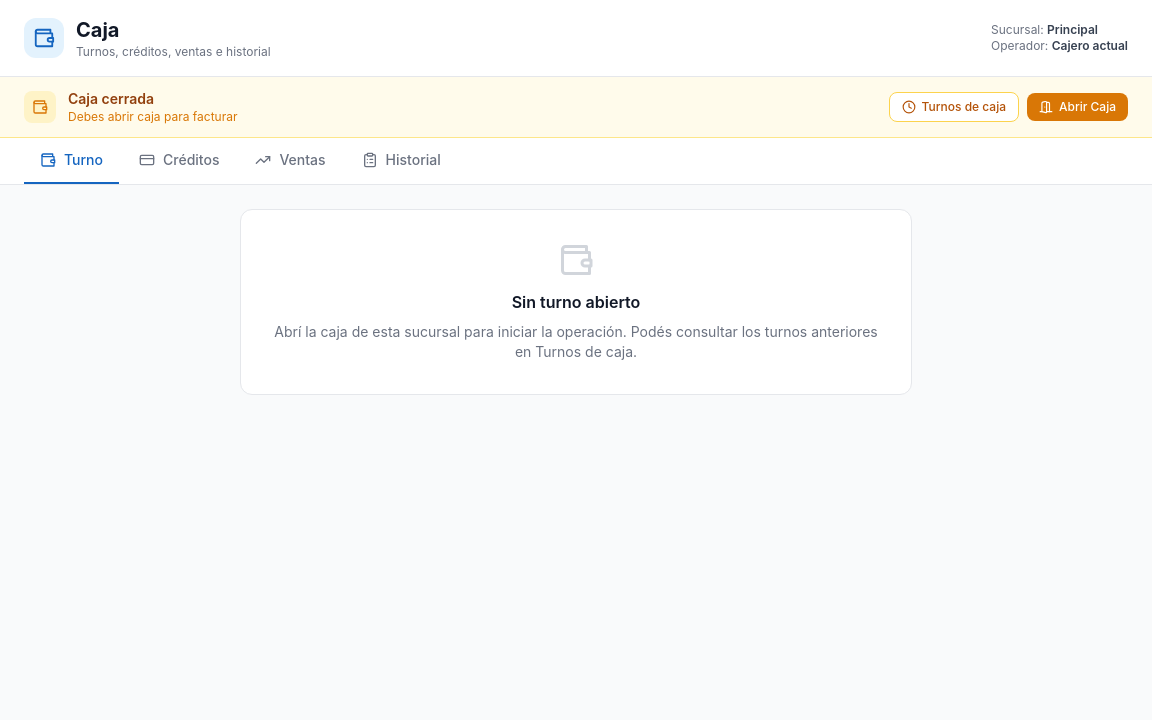
Test: HU1: pantalla propia de Caja › abre historial de turnos sin consultas de Restaurante
What coordinates should you click on to do the following:
click the button "Turnos de caja"
I would click on:
 (954, 107)
Its box is [889,92,1019,122].
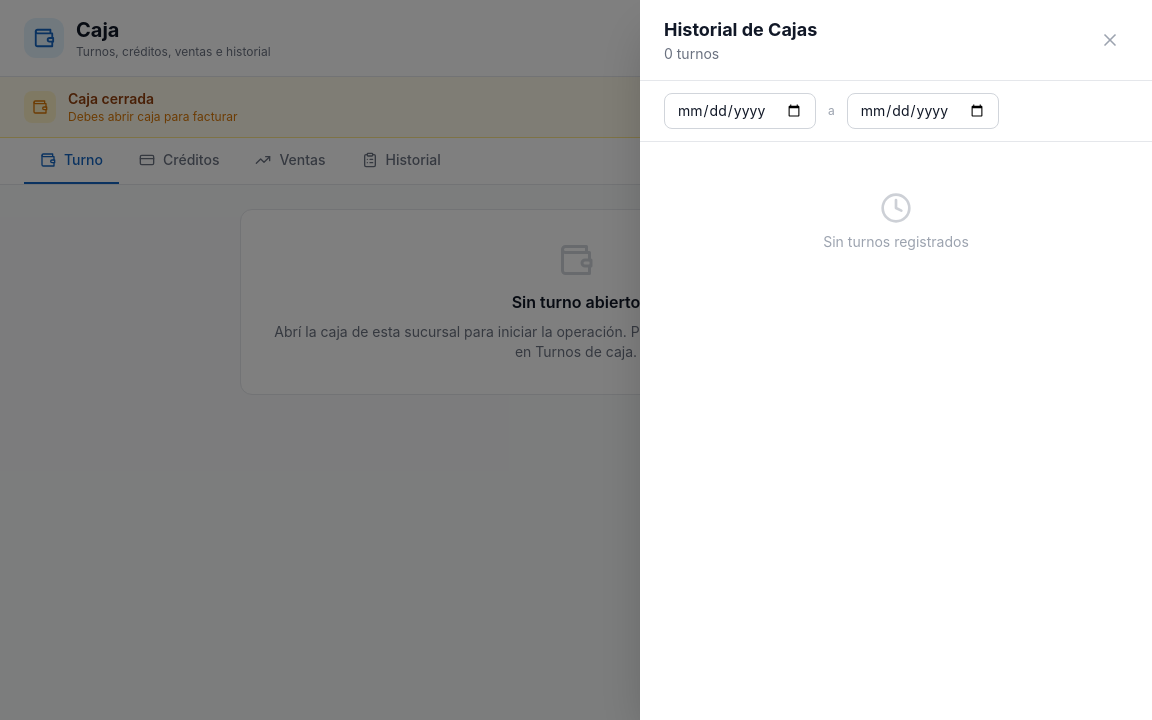
Expected: the text "Sin turnos registrados" is shown, [823,232,969,252]
